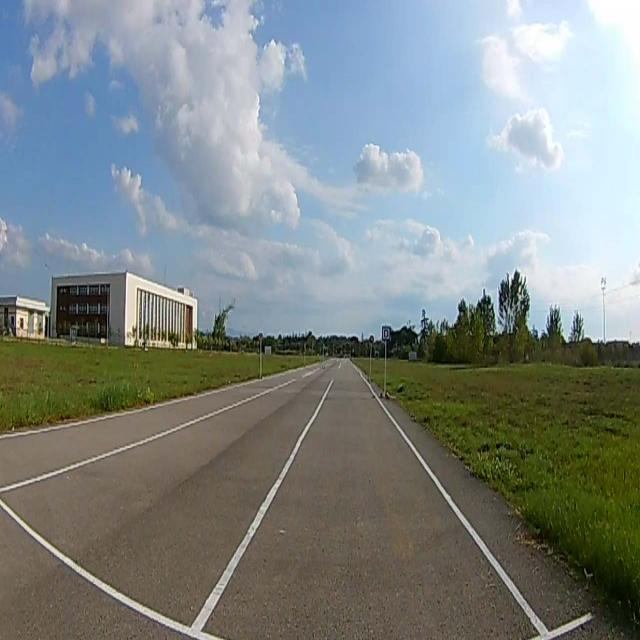durak: (382, 326, 391, 341)
